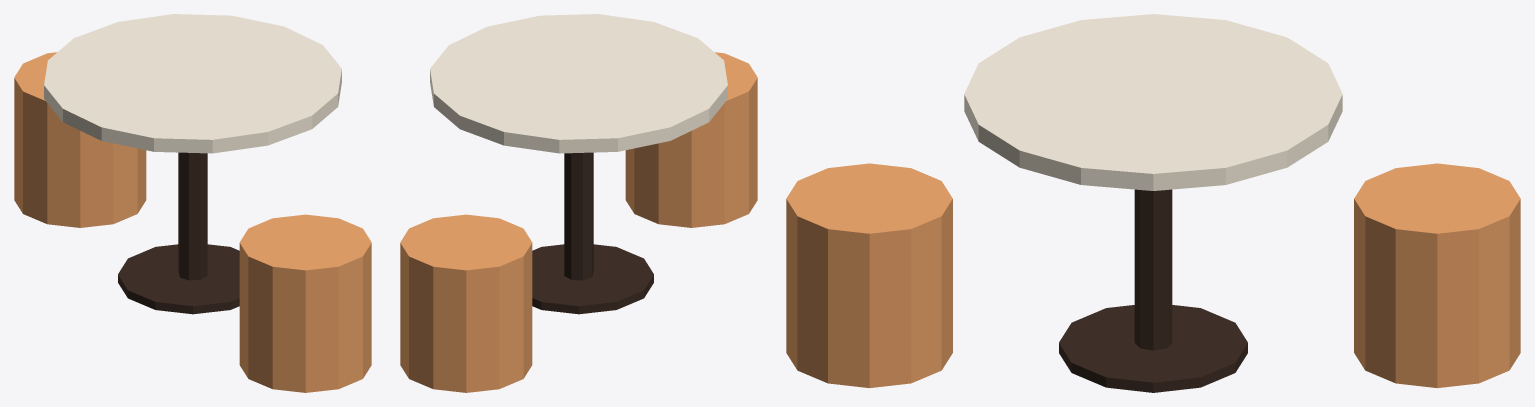
The model's file is int_mejaKafe.fbx.
3 views of the same model, side by side, from view 1: azimuth 30°, elevation 25°; view 2: azimuth 150°, elevation 25°; view 3: azimuth 270°, elevation 25° (orthographic). The views are drawn at different scales.
Parts seen in each view (by area): view 1: int_mejaKafe; view 2: int_mejaKafe; view 3: int_mejaKafe.
Boxes of the visible parts, x1,y1,x2,y2 form: int_mejaKafe: (14,14,371,392); int_mejaKafe: (400,14,757,392); int_mejaKafe: (786,14,1520,392).
Bounding box in the file's own units: 100 × 75.5 × 194.
1 material, 1 textured.
